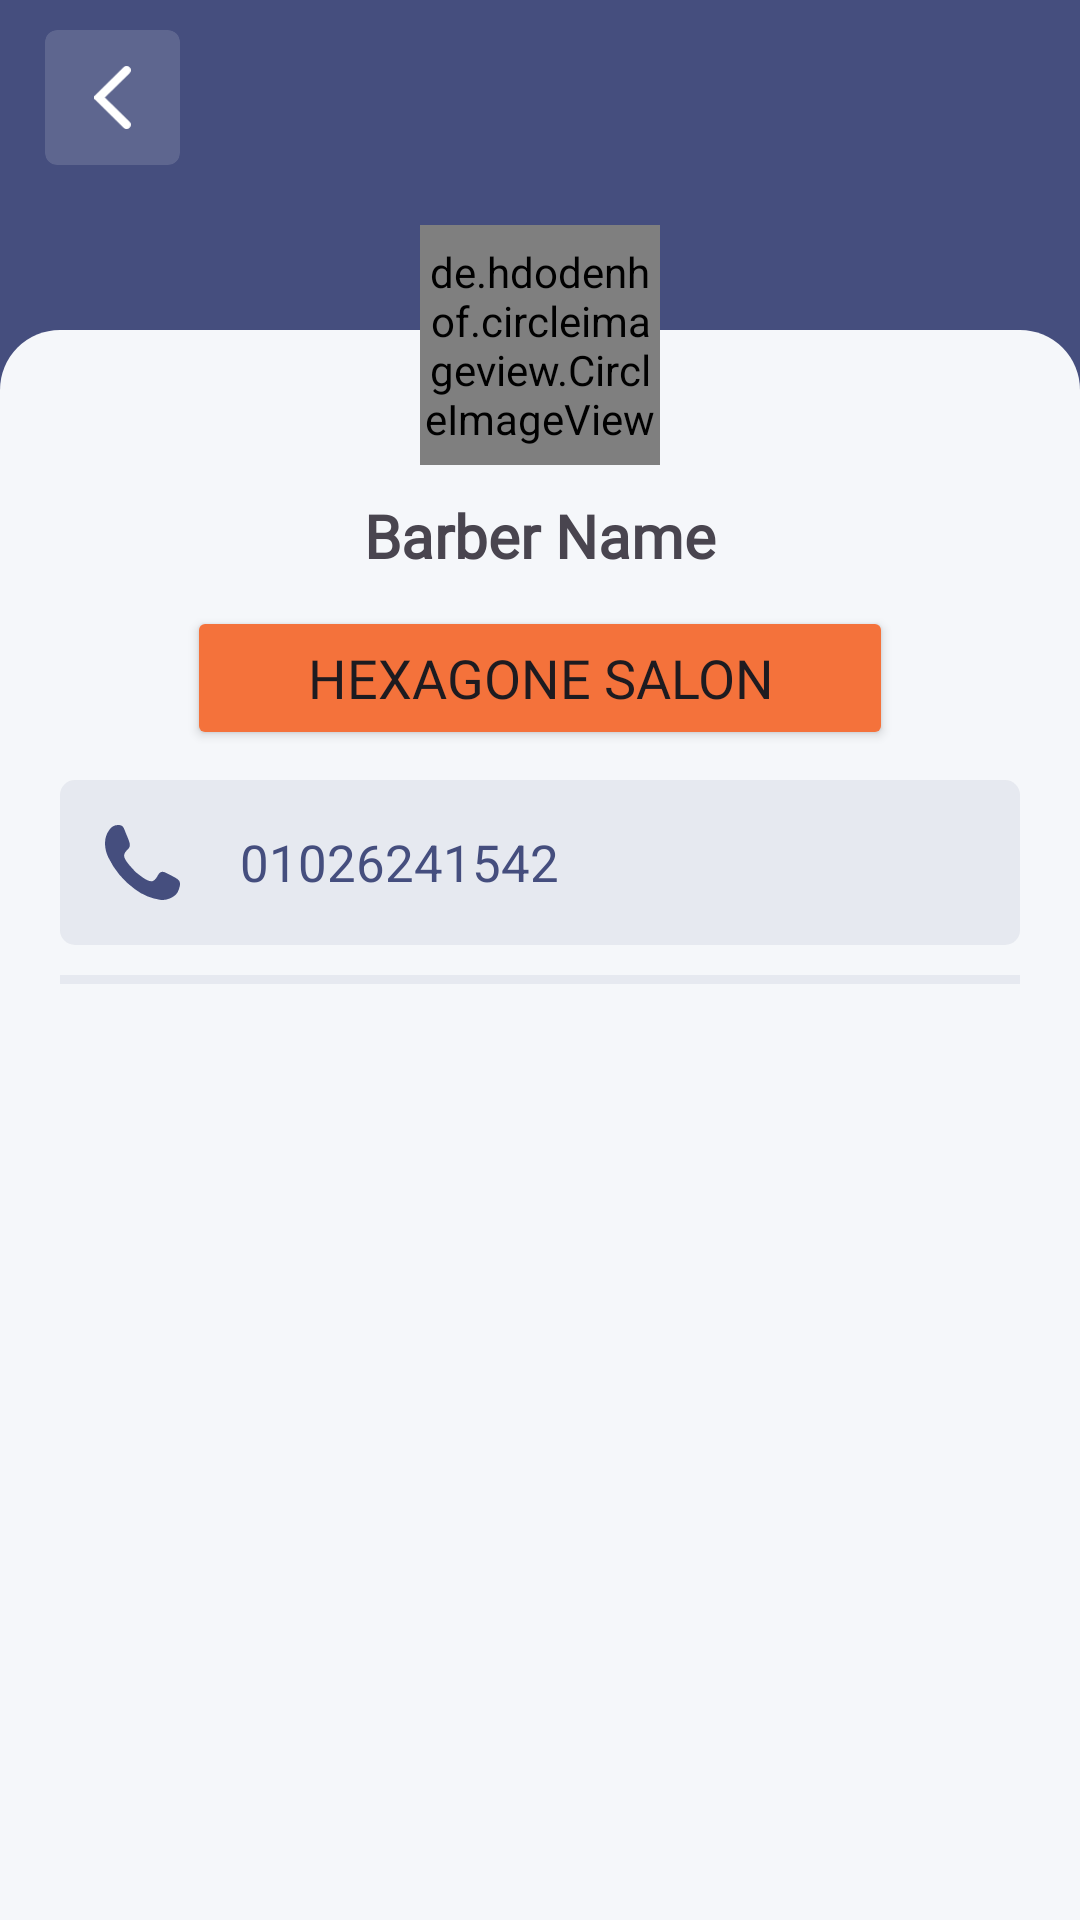

Named icons in this screenshot (1080*1920) and their centers, (x,y):
back: (112,97)
mobile: (142,862)
